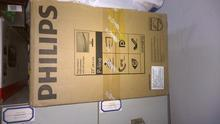cardboard: (29, 0, 167, 105)
